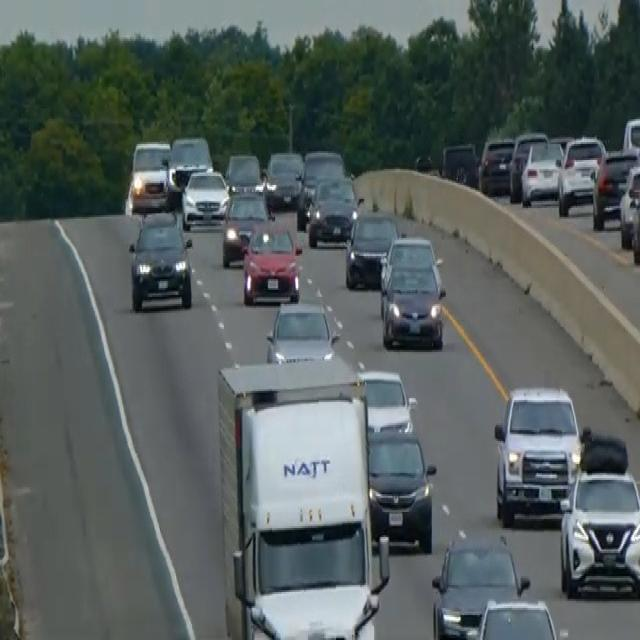car: (558, 434, 639, 601), (493, 382, 584, 526), (430, 532, 529, 638), (366, 427, 436, 551), (378, 233, 446, 350), (127, 208, 193, 311), (241, 217, 302, 306), (265, 297, 339, 363), (462, 594, 565, 638), (344, 208, 399, 290), (220, 183, 272, 267), (356, 367, 416, 438), (557, 133, 606, 215), (306, 173, 360, 247), (591, 146, 638, 229), (297, 147, 345, 225), (126, 137, 173, 213), (520, 137, 563, 206), (180, 167, 228, 228), (508, 130, 548, 199), (263, 148, 304, 210), (168, 134, 213, 190), (478, 135, 515, 196), (619, 160, 639, 251), (440, 140, 478, 187), (224, 150, 261, 190), (0, 434, 10, 578), (631, 163, 639, 265), (622, 114, 639, 160)
lorry: (215, 356, 391, 638)
